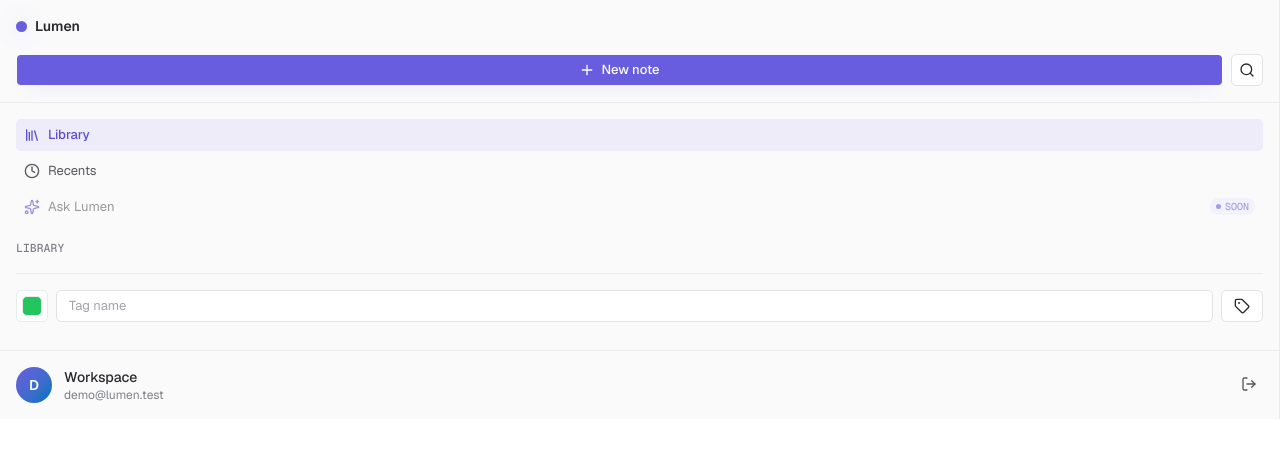
it: LibrarySidebar › shows tag-creation feedback and preserves the name while pending
Type "Exam" into the field labelled "Tag name" at x=634, y=306, box [56,290,1213,322]
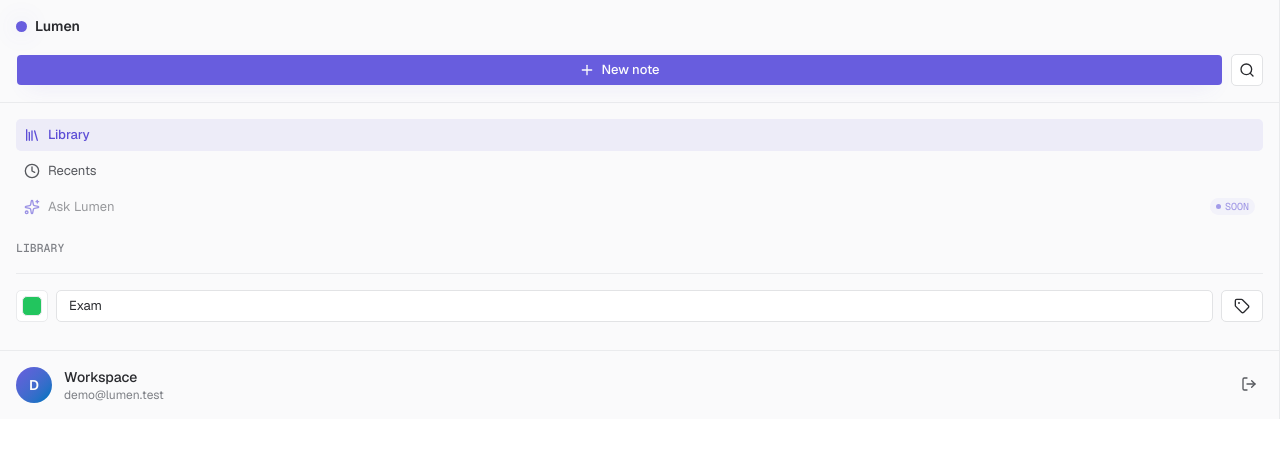
Click the button named "Create tag" at x=1242, y=306, box [1221,290,1263,322]
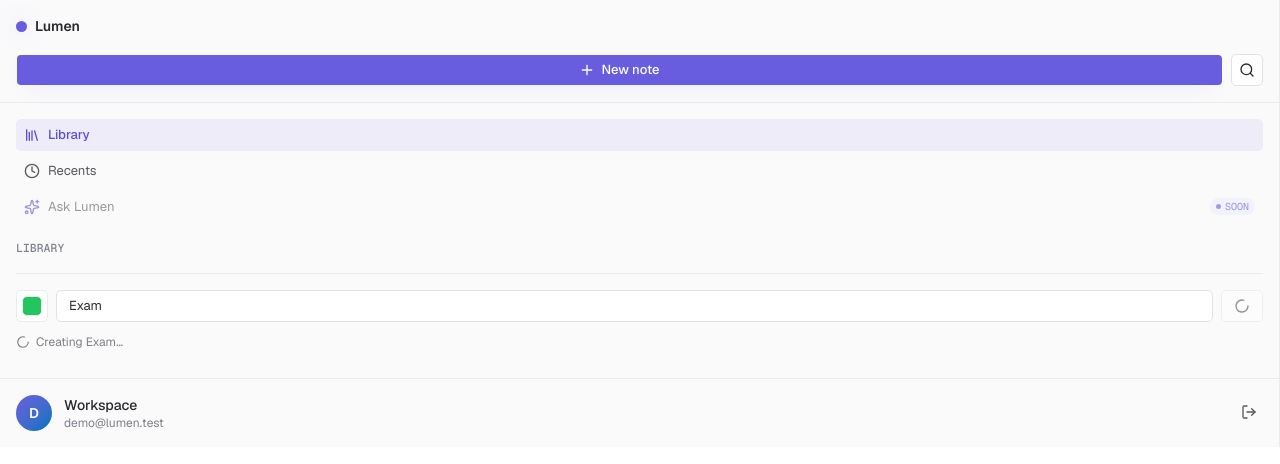
Result: the element "Creating Exam" is shown at [16,334,123,350]
Result: the button named "Creating tag" is disabled at [1221,290,1263,322]
